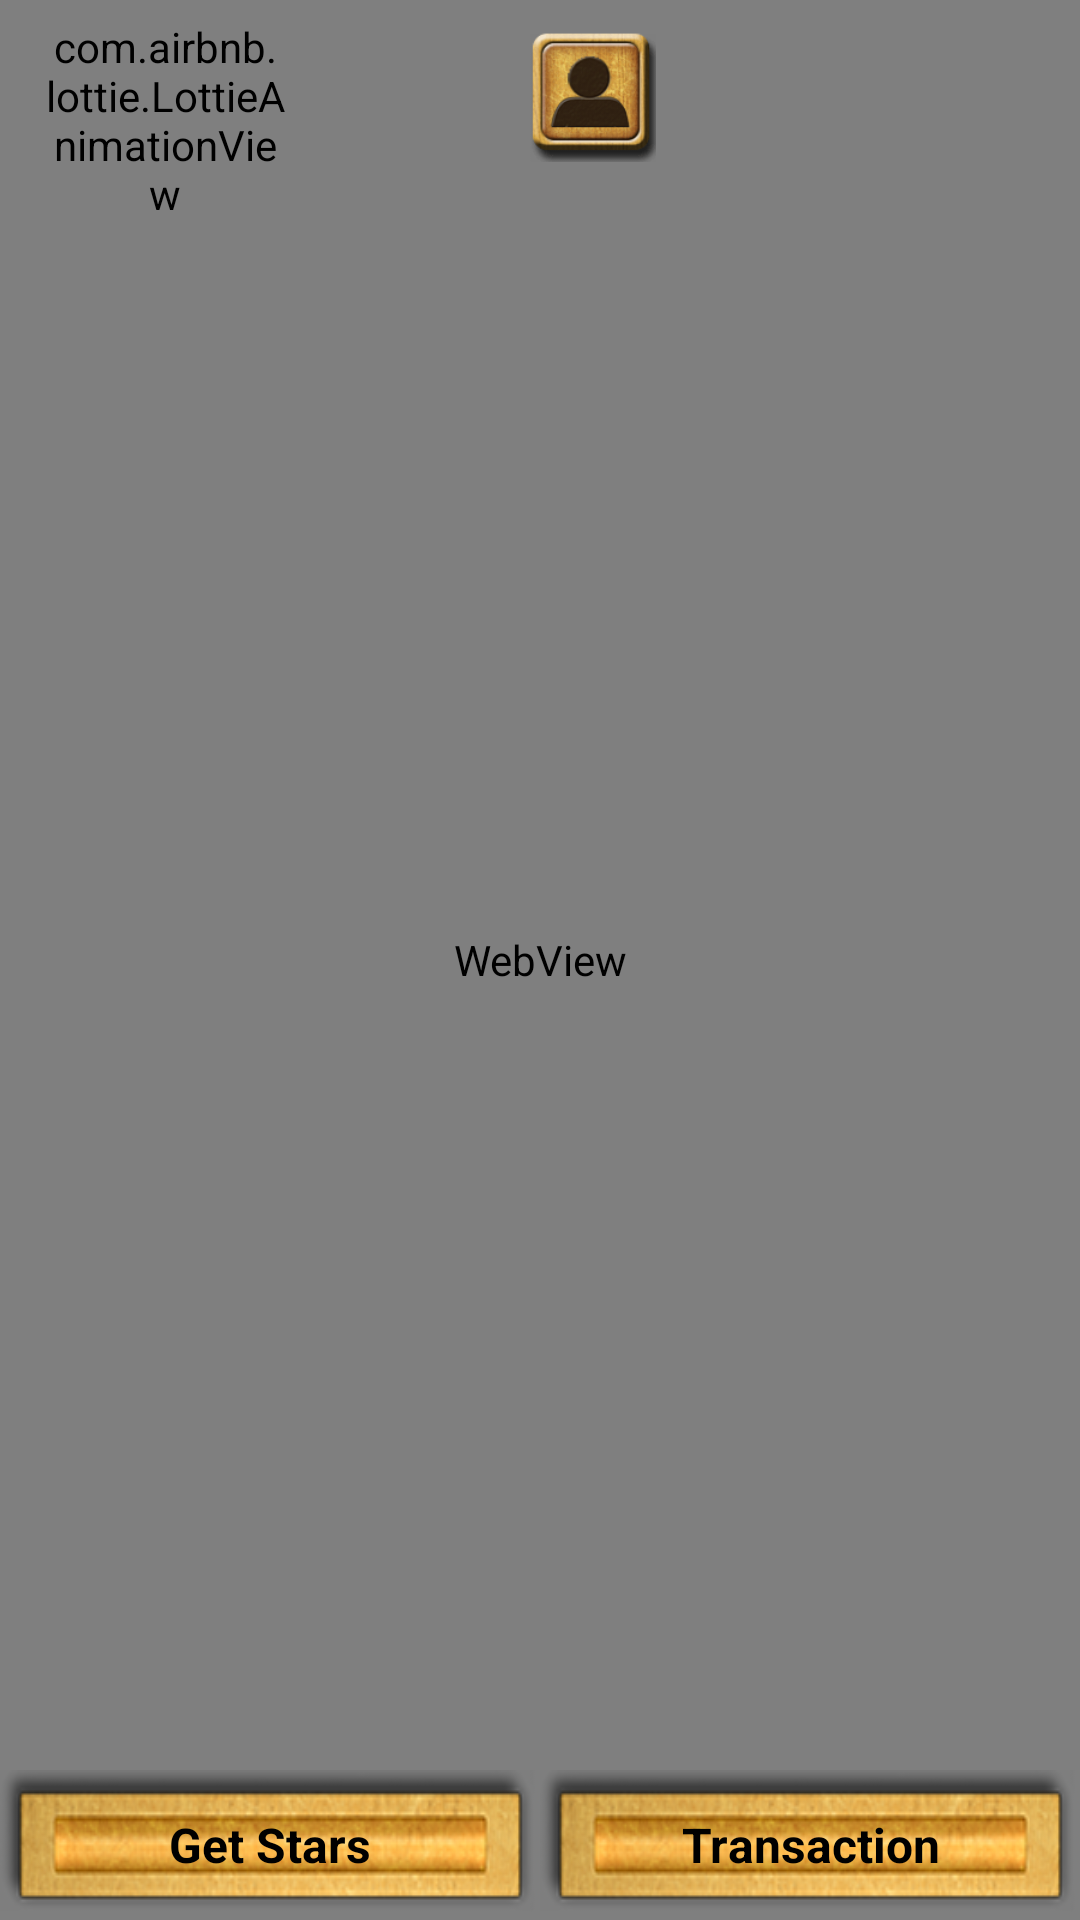

Icon click points for this 1080x1920 phone screenshot, format (x,y):
profile: (594,97)
